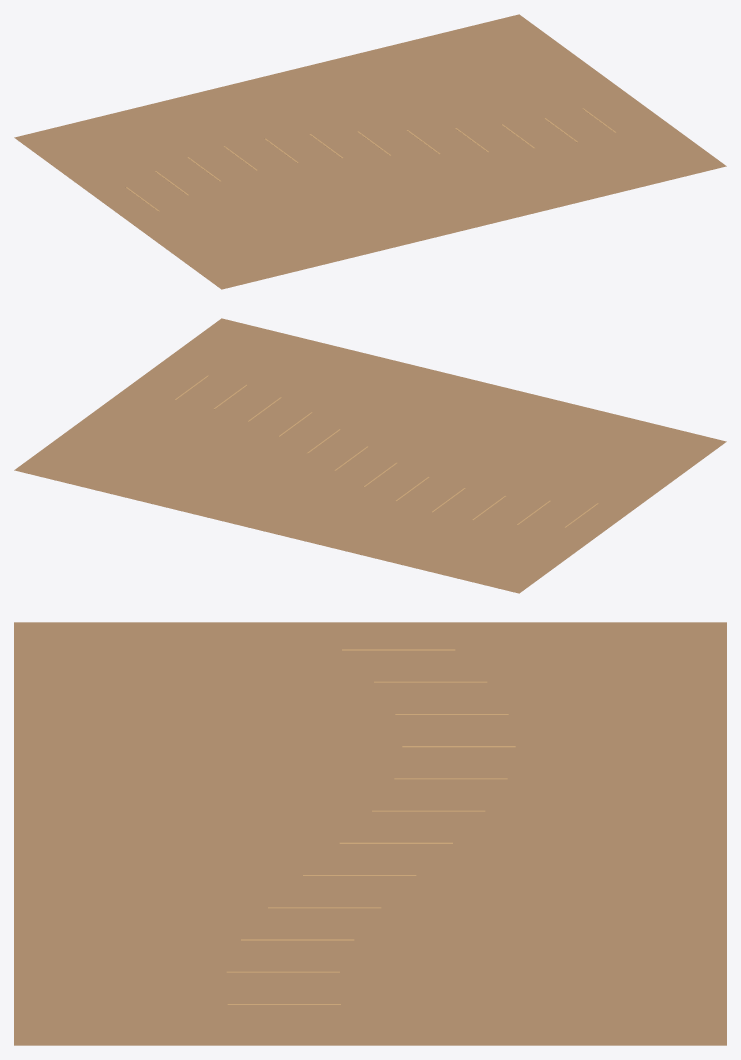
File: 264_L119_L15_LayerReference.glb
The picture shows the model from 3 angles, top to bottom: view 1: azimuth 30°, elevation 25°; view 2: azimuth 150°, elevation 25°; view 3: azimuth 270°, elevation 25°; orthographic projection. The views are drawn at different scales.
Visible parts, largest first — view 1: 0000__PSMAT__copper_dark; view 2: 0000__PSMAT__copper_dark; view 3: 0000__PSMAT__copper_dark.
Part boxes in pixels (x1=…): 0000__PSMAT__copper_dark: x1=14, y1=14, x2=726, y2=289; 0000__PSMAT__copper_dark: x1=14, y1=318, x2=726, y2=593; 0000__PSMAT__copper_dark: x1=14, y1=622, x2=726, y2=1045.
Size of the model in its own units: 0.486 by 0.00013 by 0.346.
